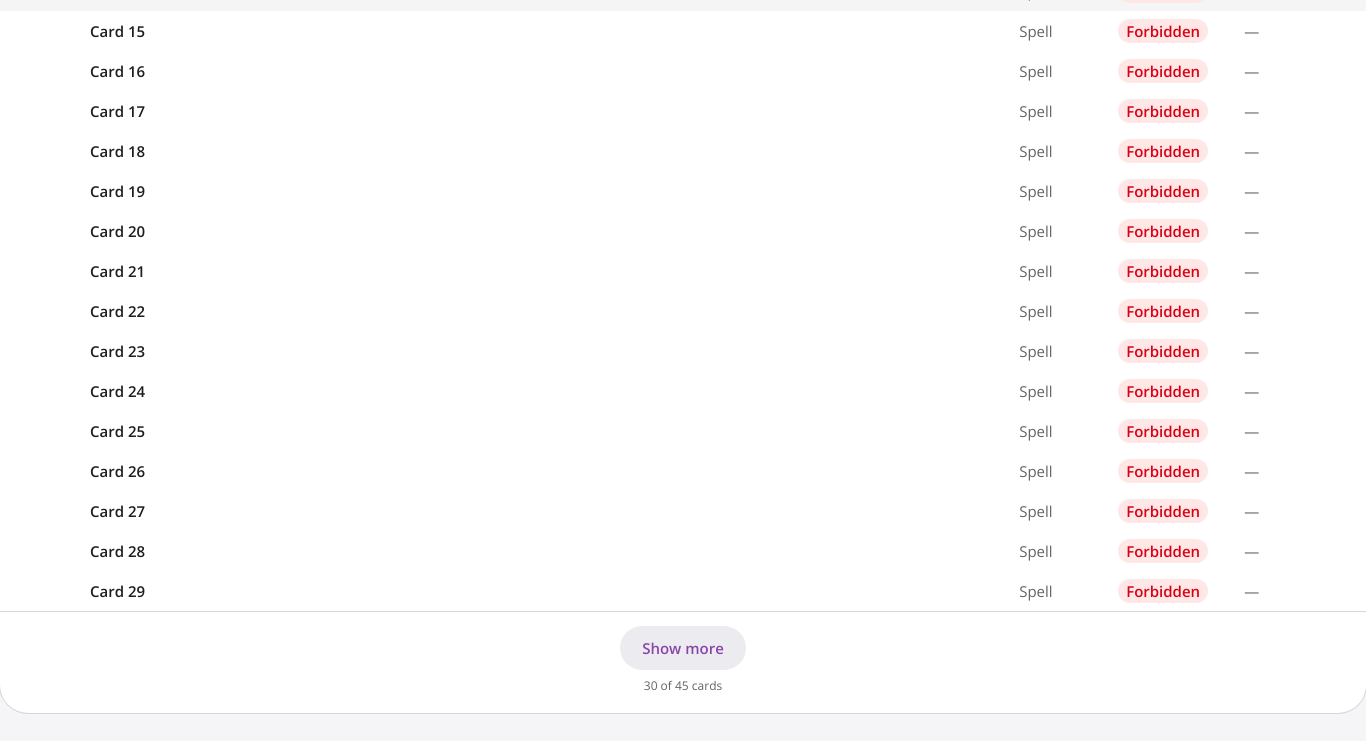
Test: shows 30 cards at a time with a Show more button
(page scrolled)
Expected: the text "30 of 45 cards" is shown, [644,678,722,695]
Click the button "Show more" at coordinates (683, 648), box [620,626,746,670]
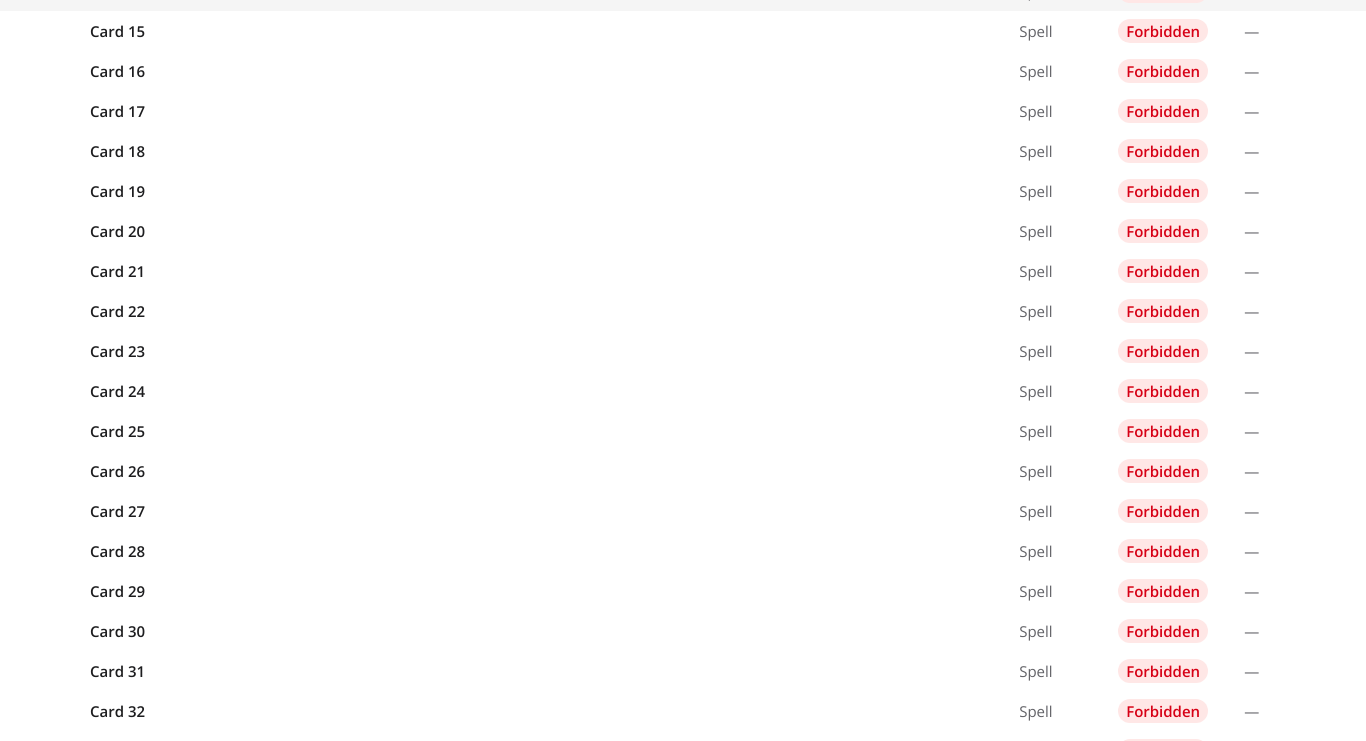
Result: the button "Show more" is gone
